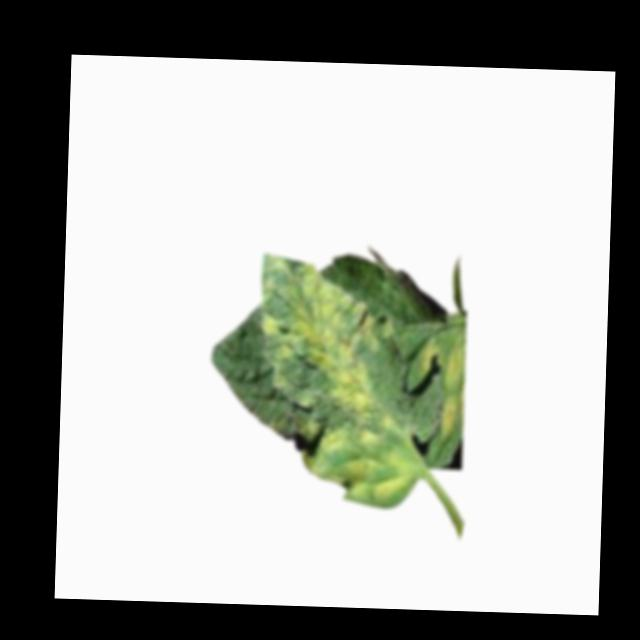Leaf_Mold: (256, 254, 398, 414), (296, 412, 418, 510), (443, 341, 468, 390), (440, 395, 459, 439), (422, 340, 439, 377)
